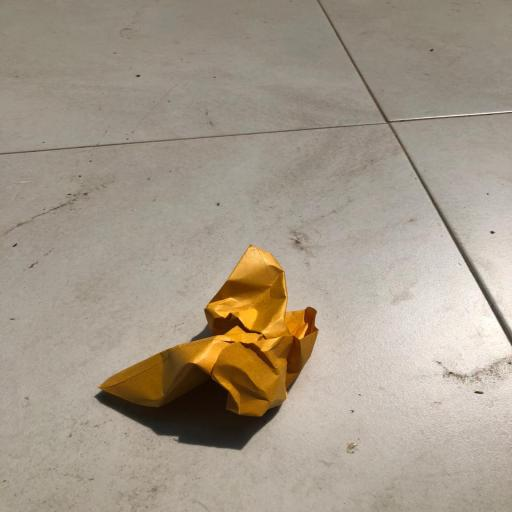waste: (88, 236, 330, 439)
